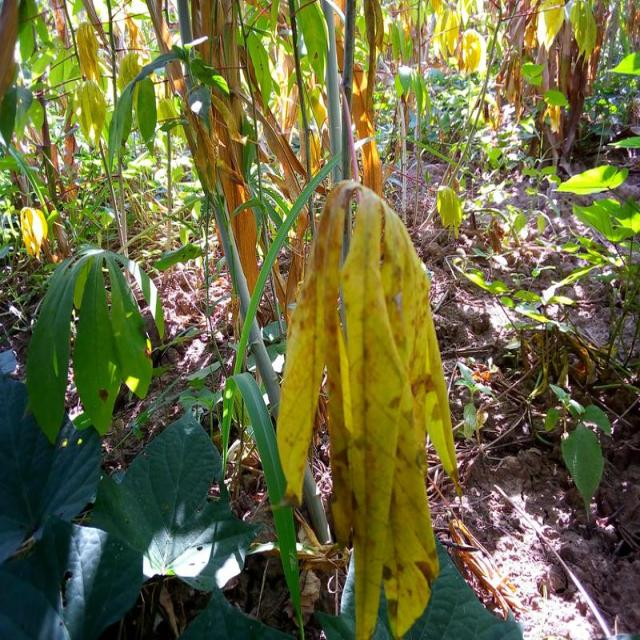cassava leaf: (276, 178, 463, 637), (90, 409, 261, 592), (26, 244, 154, 443), (315, 533, 526, 639)
